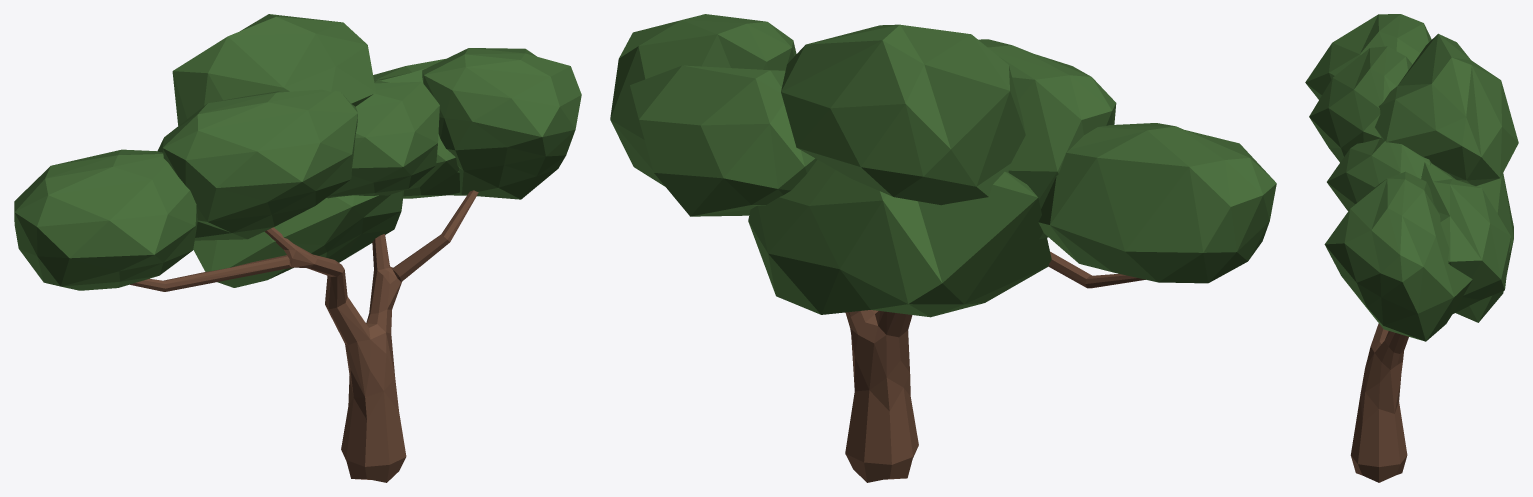
The model's file is Tree2.1.fbx.
3 renders of one model, left to right at view 1: azimuth 30°, elevation 25°; view 2: azimuth 150°, elevation 25°; view 3: azimuth 270°, elevation 25°, orthographic. The views are drawn at different scales.
Visible parts, largest first — view 1: Tree2.1; view 2: Tree2.1; view 3: Tree2.1.
Part boxes in pixels (left/top/right/bottom): Tree2.1: left=14, top=14, right=581, bottom=482; Tree2.1: left=610, top=14, right=1276, bottom=482; Tree2.1: left=1305, top=14, right=1518, bottom=482.
Bounding box in the file's own units: 884 × 669 × 326.
